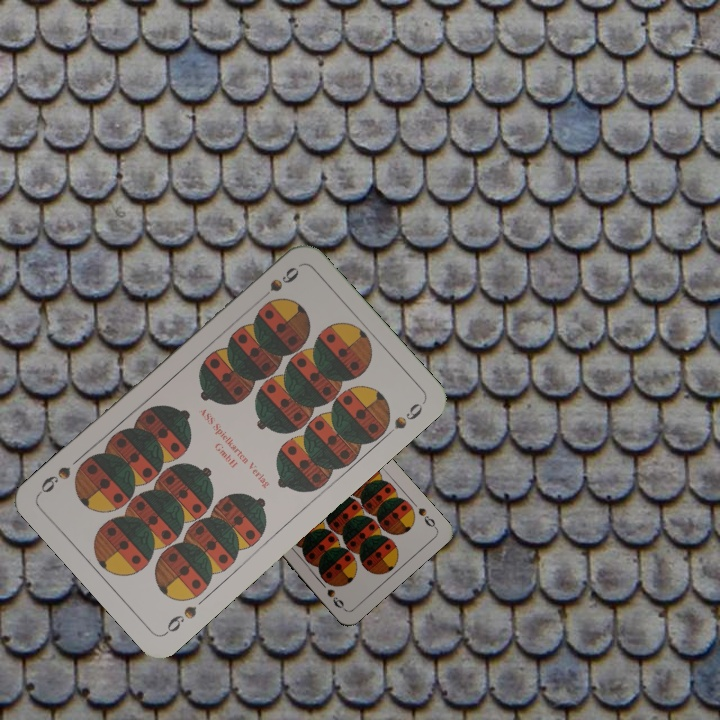S9: (253, 262, 302, 305), (160, 602, 199, 638), (414, 503, 439, 531)
